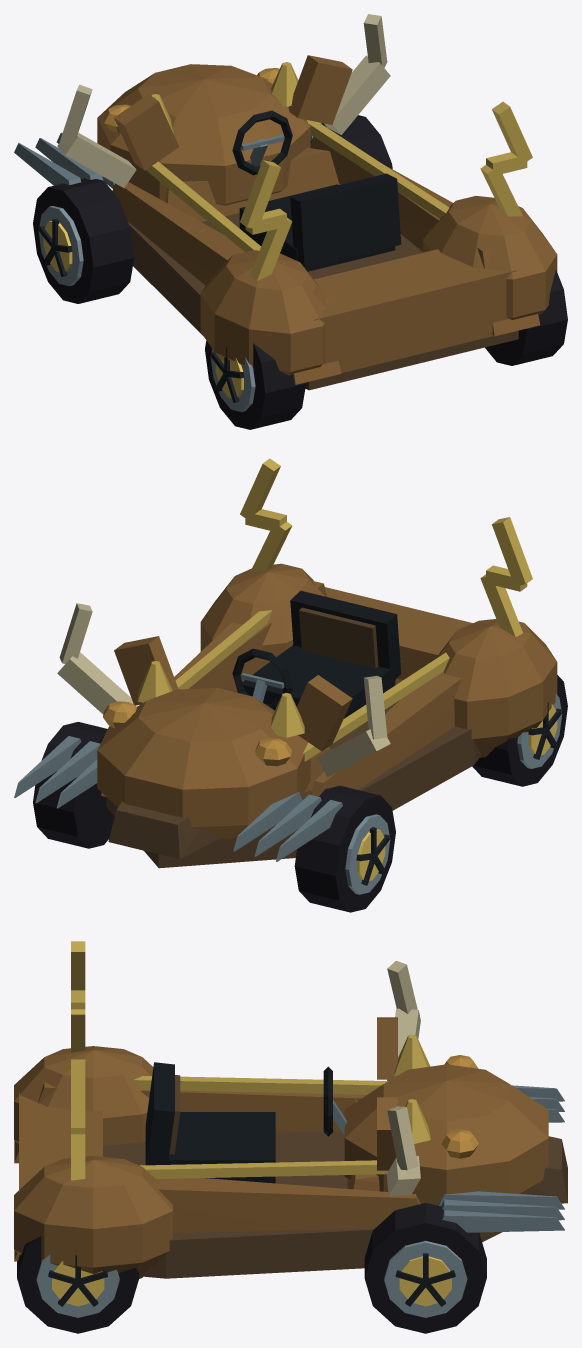
The model's file is kart.glb.
The picture shows the model from 3 angles, top to bottom: view 1: azimuth 30°, elevation 25°; view 2: azimuth 150°, elevation 25°; view 3: azimuth 270°, elevation 25°; orthographic projection.
Visible parts, largest first — view 1: identity-beast-beast-sculpted-prow-and-haunches, identity-beast-driver-cockpit, wheel-front-left, identity-beast-motif-horns, identity-beast-motif-electric, wheel-rear-left, wheel-rear-right, identity-beast-motif-claws, wheel-front-right; view 2: identity-beast-beast-sculpted-prow-and-haunches, identity-beast-driver-cockpit, wheel-front-left, identity-beast-motif-claws, identity-beast-motif-horns, identity-beast-motif-electric, wheel-front-right, wheel-rear-left; view 3: identity-beast-beast-sculpted-prow-and-haunches, wheel-front-right, identity-beast-driver-cockpit, wheel-rear-right, identity-beast-motif-claws, identity-beast-motif-horns, identity-beast-motif-electric.
Part boxes in pixels (left/top/right/bottom): identity-beast-beast-sculpted-prow-and-haunches: left=97, top=55, right=557, bottom=390; identity-beast-driver-cockpit: left=232, top=110, right=401, bottom=271; wheel-front-left: left=33, top=178, right=134, bottom=303; identity-beast-motif-horns: left=57, top=14, right=390, bottom=187; identity-beast-motif-electric: left=240, top=101, right=532, bottom=281; wheel-rear-left: left=205, top=340, right=306, bottom=429; wheel-rear-right: left=485, top=270, right=567, bottom=365; identity-beast-motif-claws: left=14, top=122, right=321, bottom=188; wheel-front-right: left=310, top=115, right=392, bottom=168; identity-beast-beast-sculpted-prow-and-haunches: left=97, top=563, right=557, bottom=868; identity-beast-driver-cockpit: left=232, top=590, right=401, bottom=718; wheel-front-left: left=294, top=785, right=395, bottom=912; identity-beast-motif-claws: left=14, top=736, right=342, bottom=861; identity-beast-motif-horns: left=57, top=603, right=390, bottom=777; identity-beast-motif-electric: left=240, top=458, right=532, bottom=636; wheel-front-right: left=33, top=722, right=114, bottom=848; wheel-rear-left: left=472, top=675, right=567, bottom=786; identity-beast-beast-sculpted-prow-and-haunches: left=14, top=1017, right=567, bottom=1278; wheel-front-right: left=364, top=1203, right=486, bottom=1333; identity-beast-driver-cockpit: left=145, top=1062, right=346, bottom=1183; wheel-rear-right: left=17, top=1236, right=139, bottom=1333; identity-beast-motif-claws: left=438, top=1085, right=564, bottom=1232; identity-beast-motif-horns: left=386, top=960, right=420, bottom=1196; identity-beast-motif-electric: left=71, top=941, right=85, bottom=1180.
Size of the model in its own units: 2.01 by 1.49 by 2.9.
